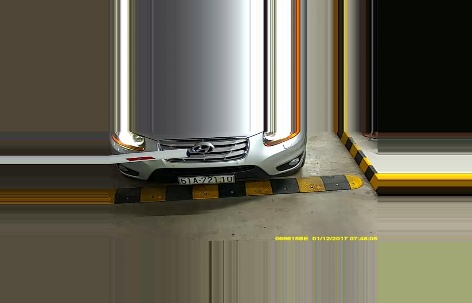plate: (177, 171, 236, 186)
